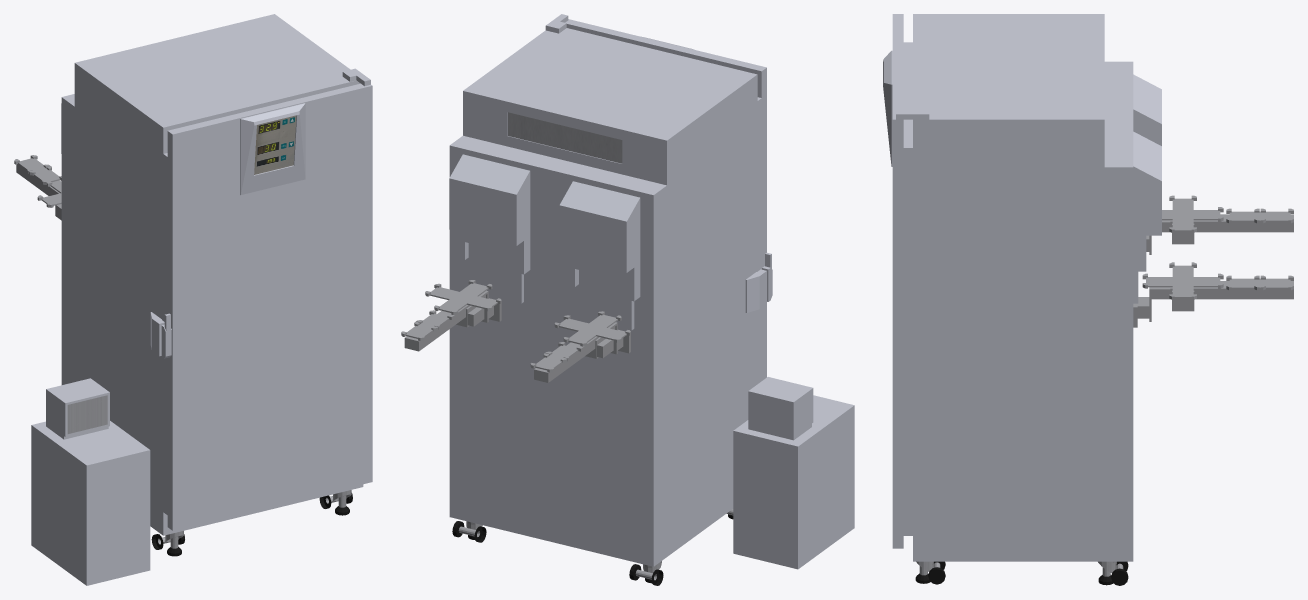
The picture shows the model from 3 angles, left to right: view 1: azimuth 30°, elevation 25°; view 2: azimuth 150°, elevation 25°; view 3: azimuth 270°, elevation 25°; orthographic projection. The views are drawn at different scales.
Parts seen in each view (by area): view 1: 062; view 2: 062; view 3: 062.
Part boxes in pixels (<box>): 062: <box>14,14,372,585</box>; 062: <box>401,14,854,585</box>; 062: <box>883,14,1293,585</box>.
Bounding box in the file's own units: 321 × 469 × 368.
4 materials, 2 textured.
